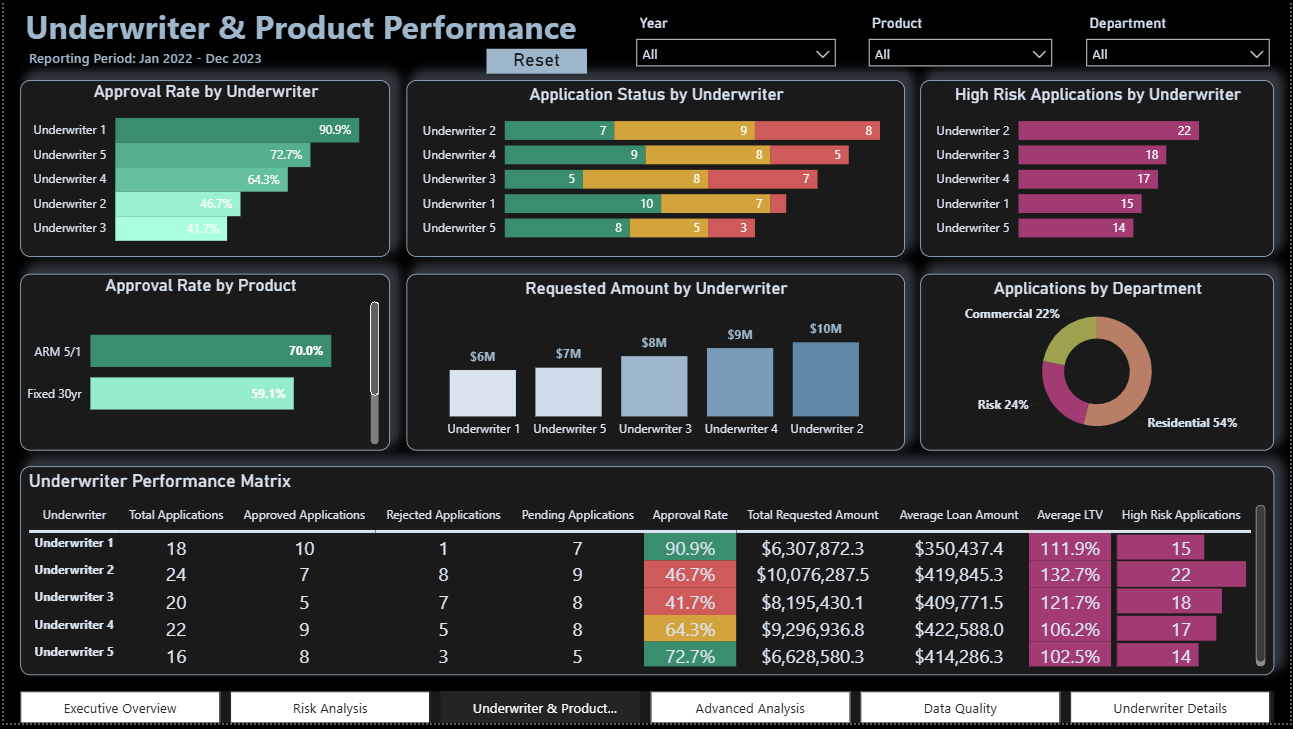

The dashboard page shown, as its layout file describes it:
{"tool":"powerbi","page":{"name":"Underwriter & Product Performance","canvas":[1280,720],"ordinal":2},"visuals":[{"type":"textbox","box":[16,0,560,64],"z":0},{"type":"clusteredBarChart","title":"Approval Rate by Product","fields":{"Category":["DimProducts.ProductName"],"Y":["_Measures.Approval Rate"]},"box":[16,272,368,176],"z":1000},{"type":"donutChart","title":"Applications by Department","fields":{"Category":["DimUnderwriters.Department"],"Y":["_Measures.Total Applications"]},"box":[912,272,352,176],"z":2000},{"type":"clusteredColumnChart","title":"Requested Amount by Underwriter","fields":{"Category":["DimUnderwriters.Name"],"Y":["_Measures.Total Requested Amount"]},"box":[400,272,496,176],"z":3000},{"type":"barChart","title":"Application Status by Underwriter","fields":{"Category":["DimUnderwriters.Name"],"Y":["_Measures.Total Applications"],"Series":["FactApplications.Status"]},"box":[400,80,496,176],"z":4000},{"type":"clusteredBarChart","title":"High Risk Applications by Underwriter","fields":{"Category":["DimUnderwriters.Name"],"Y":["_Measures.High Risk Applications"]},"box":[912,80,352,176],"z":5000},{"type":"clusteredBarChart","title":"Approval Rate by Underwriter","fields":{"Category":["DimUnderwriters.Name"],"Y":["_Measures.Approval Rate"]},"box":[16,80,368,176],"z":6000},{"type":"slicer","fields":{"Values":["DimDate.Year"]},"box":[624,10,208,70],"z":7000},{"type":"slicer","fields":{"Values":["DimProducts.ProductName"]},"box":[856,10,192,70],"z":8000},{"type":"slicer","fields":{"Values":["DimUnderwriters.Department"]},"box":[1072,10,192,70],"z":9000},{"type":"pivotTable","title":"Underwriter Performance Matrix","fields":{"Rows":["DimUnderwriters.Name"],"Values":["_Measures.Total Applications","_Measures.Approved Applications","_Measures.Rejected Applications","_Measures.Pending Applications","_Measures.Approval Rate","_Measures.Total Requested Amount","_Measures.Average Loan Amount","_Measures.Average LTV","_Measures.High Risk Applications"]},"box":[16,464,1248,208],"z":10000},{"type":"cardVisual","fields":{"Data":["_Measures.Selected Period"]},"box":[20,32,320,48],"z":11000},{"type":"pageNavigator","box":[16,688,1248,32],"z":12000},{"type":"actionButton","title":"Reset ","box":[480,48,100,25],"z":13000}]}

Visuals, with their boxes in screenshot pixels (x1, y1, x2, y2), scaled from the page's 1280x720 canvas onto the 1293x729 screenshot:
textbox: crop(16, 0, 582, 65)
"Approval Rate by Product" clusteredBarChart: crop(16, 275, 388, 454)
"Applications by Department" donutChart: crop(921, 275, 1277, 454)
"Requested Amount by Underwriter" clusteredColumnChart: crop(404, 275, 905, 454)
"Application Status by Underwriter" barChart: crop(404, 81, 905, 259)
"High Risk Applications by Underwriter" clusteredBarChart: crop(921, 81, 1277, 259)
"Approval Rate by Underwriter" clusteredBarChart: crop(16, 81, 388, 259)
slicer - DimDate.Year: crop(630, 10, 840, 81)
slicer - DimProducts.ProductName: crop(865, 10, 1059, 81)
slicer - DimUnderwriters.Department: crop(1083, 10, 1277, 81)
"Underwriter Performance Matrix" pivotTable: crop(16, 470, 1277, 680)
cardVisual - _Measures.Selected Period: crop(20, 32, 343, 81)
pageNavigator: crop(16, 697, 1277, 728)
"Reset " actionButton: crop(485, 49, 586, 74)
